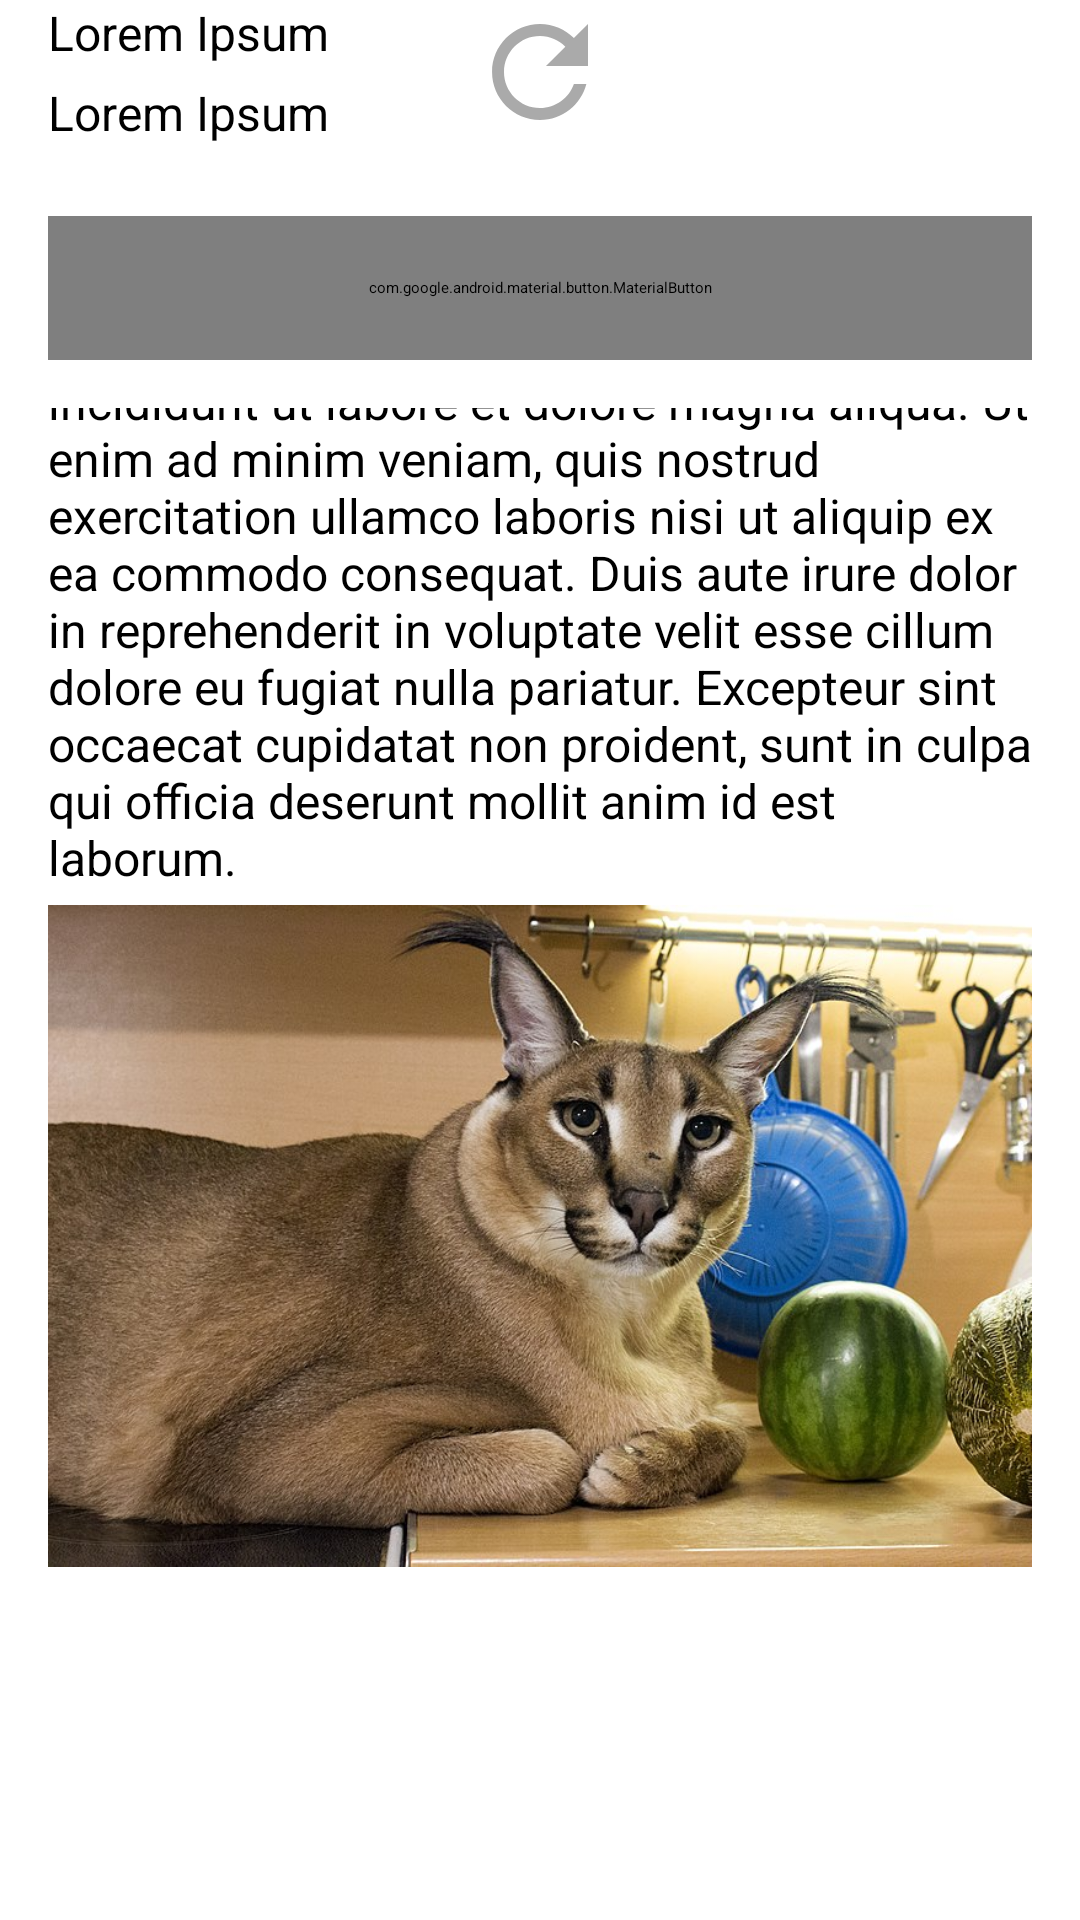

Where to tap for icons on this 1080px×1920px app screen, as (x,y):
refresh: (540,72)
